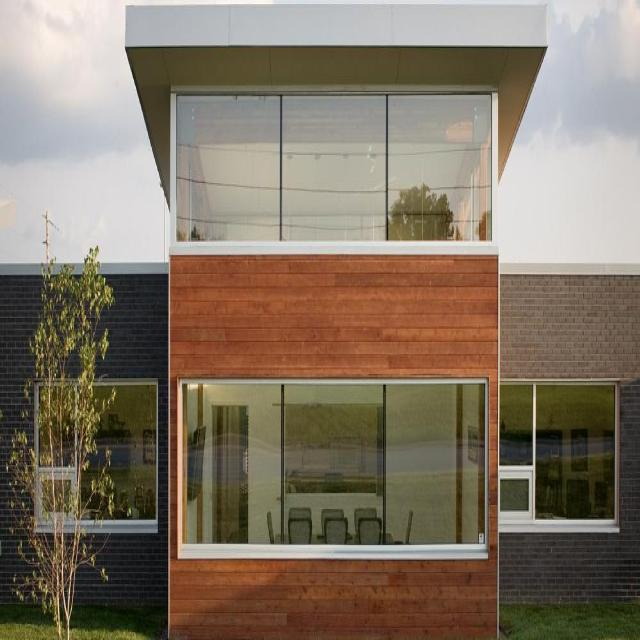plant: (8, 245, 125, 611)
wall: (0, 0, 639, 636)
windows: (180, 377, 488, 549), (178, 88, 491, 240), (497, 380, 621, 526), (36, 382, 156, 527)
